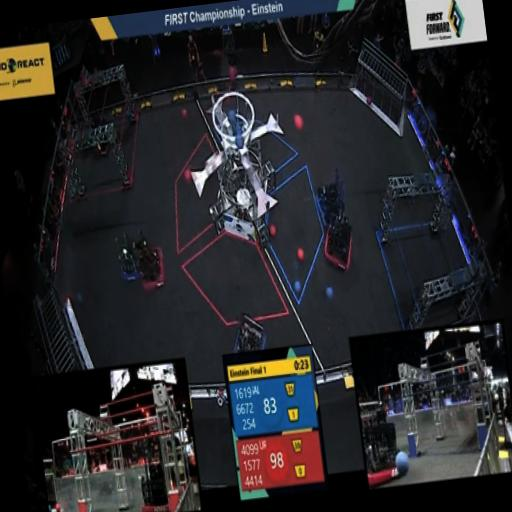robot: (303, 164, 359, 229), (217, 304, 275, 364), (316, 206, 364, 278), (132, 224, 172, 294), (81, 96, 118, 163), (102, 230, 140, 290)
